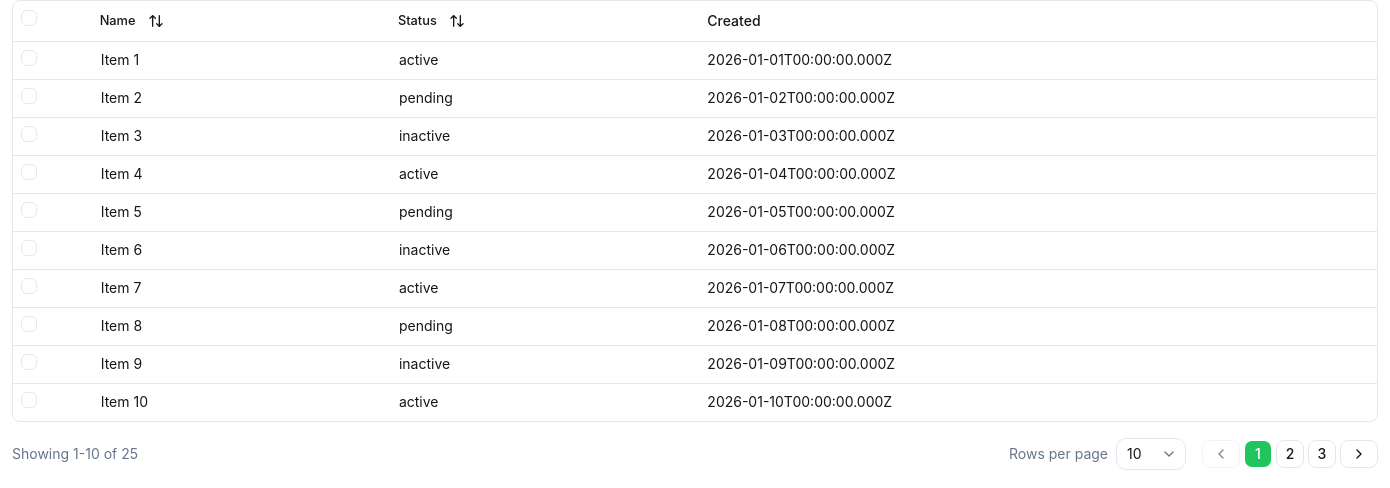
Test: DataTable component system › FOUND-01c: pagination shows correct range and navigates
The width and height of the screenshot is (1390, 488).
Expected: the text "Showing 1-10 of 25" is shown, [12, 444, 138, 464]
# Click next page
Click the 2nd button named "Next page" at (1359, 454), box [1340, 440, 1378, 468]
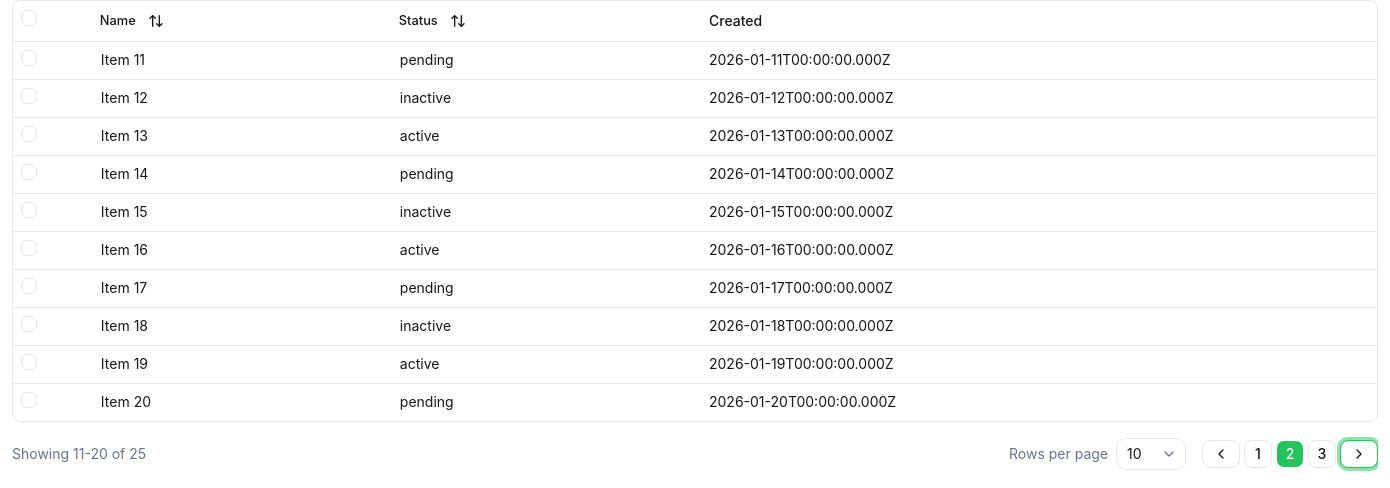
Now the text "Showing 11-20 of 25" is shown, box [12, 444, 146, 464]
Now the text "Item 11" is shown, box [93, 41, 392, 79]
